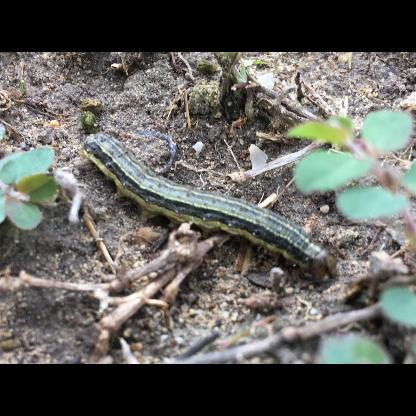Fall Armyworm Larvae: (75, 130, 341, 284)
